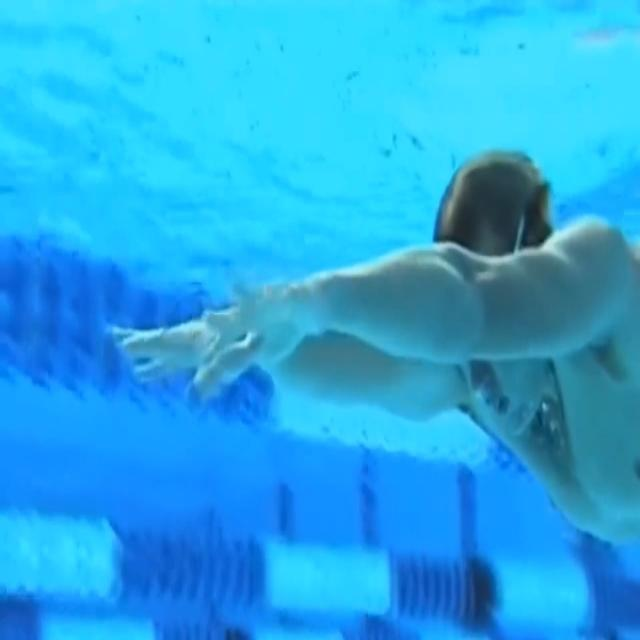Swimming: (107, 151, 640, 544)
